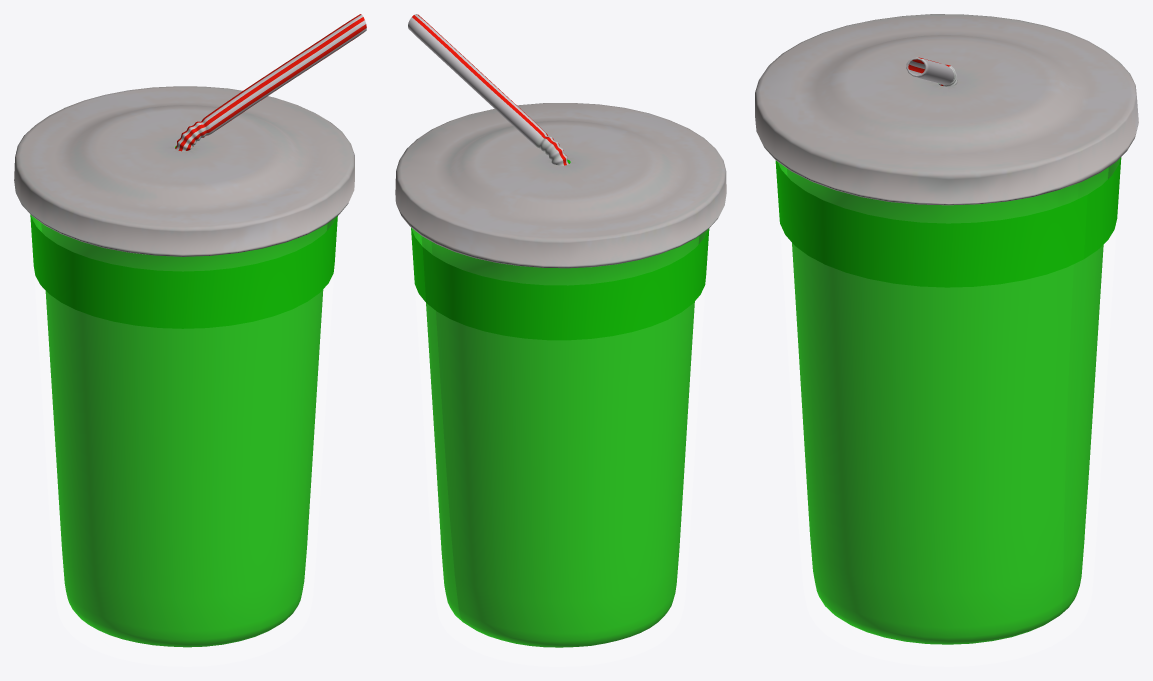
Rendered from Yes╠ğil Cola 4.fbx.
The picture shows the model from 3 angles, left to right: view 1: azimuth 30°, elevation 25°; view 2: azimuth 150°, elevation 25°; view 3: azimuth 270°, elevation 25°; orthographic projection. The views are drawn at different scales.
Parts seen in each view (by area): view 1: Cube.001, Cube.047, Cube.005, Cube.012; view 2: Cube.001, Cube.047, Cube.005, Cube.012; view 3: Cube.001, Cube.047, Cube.005, Cube.012.
Boxes of the visible parts, x1,y1,x2,y2 form: Cube.001: (41, 146, 327, 647); Cube.047: (14, 86, 354, 256); Cube.005: (30, 214, 337, 666); Cube.012: (175, 14, 366, 151); Cube.001: (421, 159, 699, 647); Cube.047: (395, 103, 726, 268); Cube.005: (411, 227, 709, 666); Cube.012: (408, 14, 568, 165); Cube.001: (787, 167, 1108, 644); Cube.047: (755, 14, 1138, 205); Cube.005: (775, 157, 1121, 666); Cube.012: (906, 57, 957, 86).
Bounding box in the file's own units: 20.32 × 35.49 × 19.14.
Materials: 4 (1 with a texture image).
